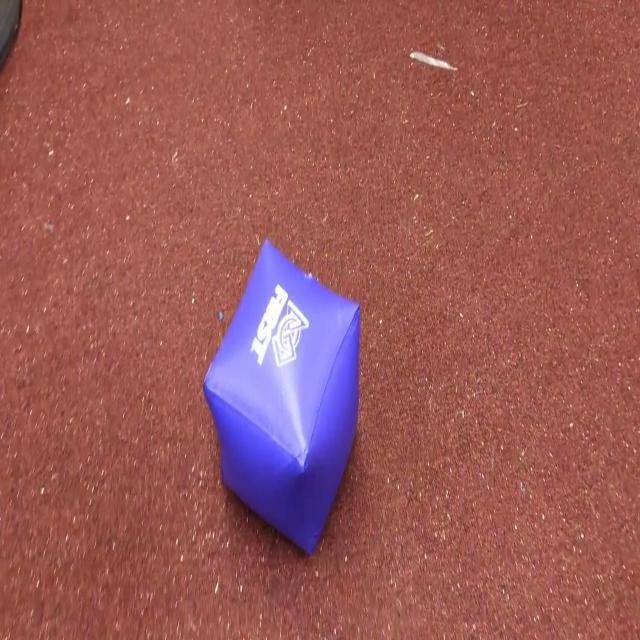frc_cube: (203, 235, 361, 556)
